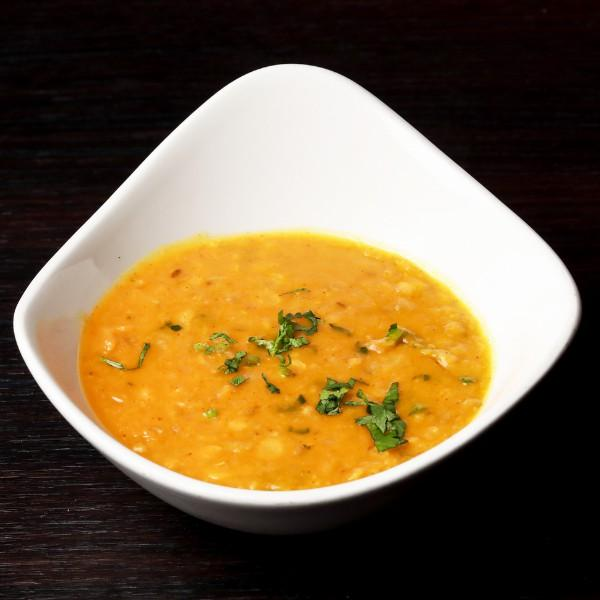Dal: (83, 230, 488, 487)
